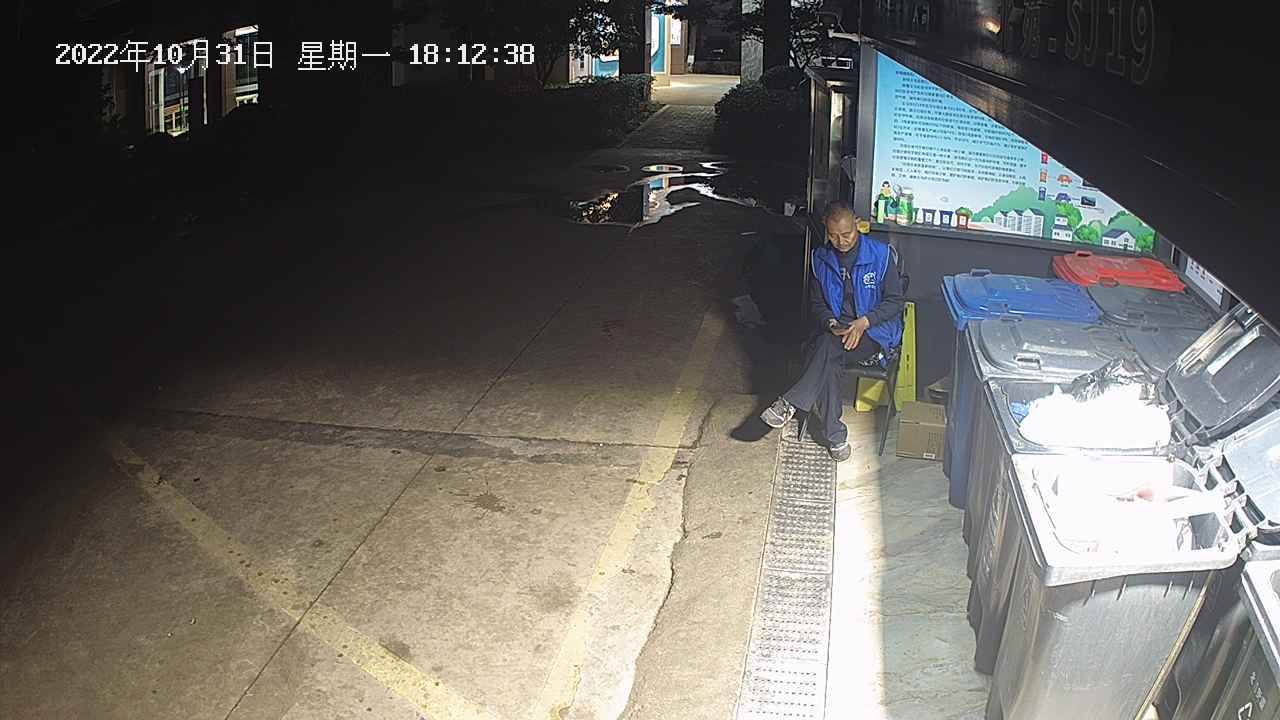worker: (759, 198, 907, 465)
